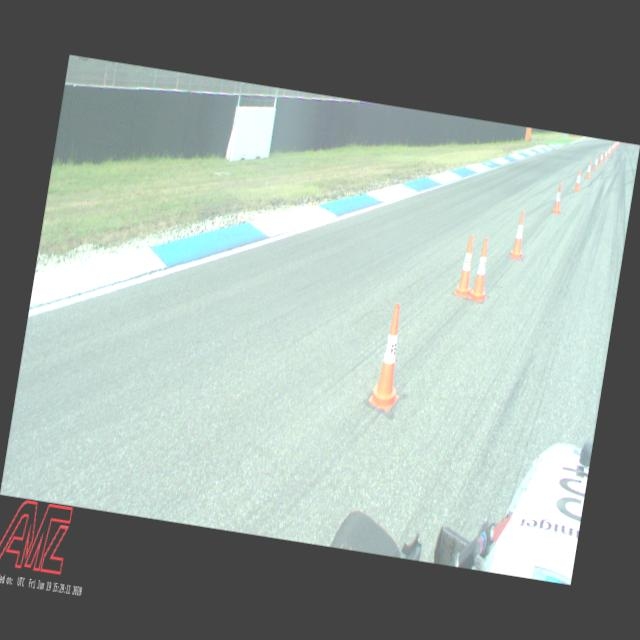orange_cone: (367, 302, 413, 412), (469, 237, 496, 304), (454, 233, 479, 297), (510, 210, 530, 260), (552, 183, 565, 214), (573, 169, 583, 192), (585, 160, 593, 179), (592, 155, 600, 170), (600, 151, 604, 164), (604, 148, 608, 160), (607, 148, 610, 157), (609, 145, 612, 154), (611, 144, 614, 152), (614, 142, 616, 150), (615, 142, 617, 148)
